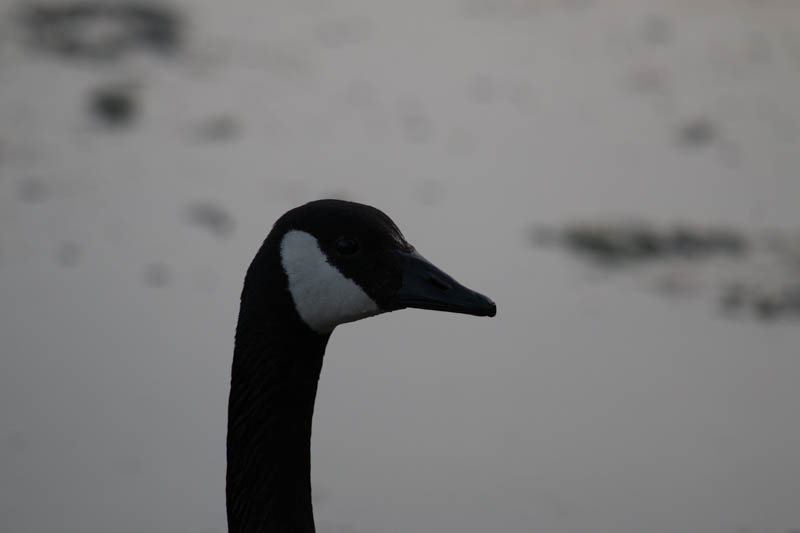goose-head: (234, 199, 498, 336)
